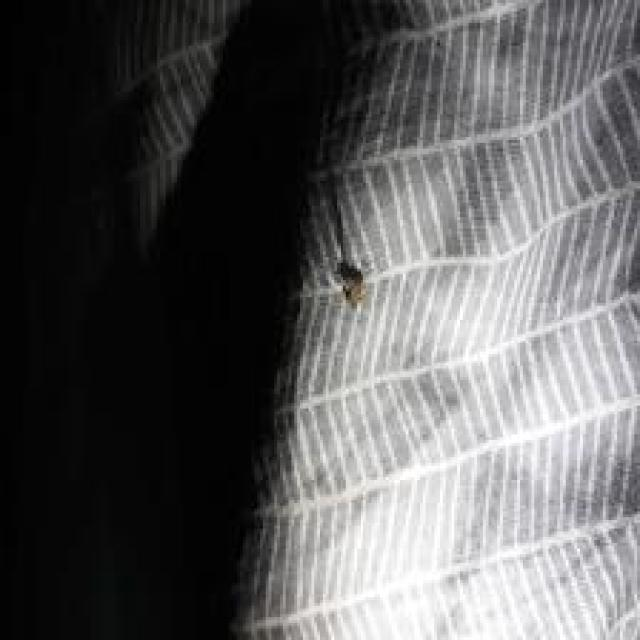Culex: (333, 259, 367, 310)
